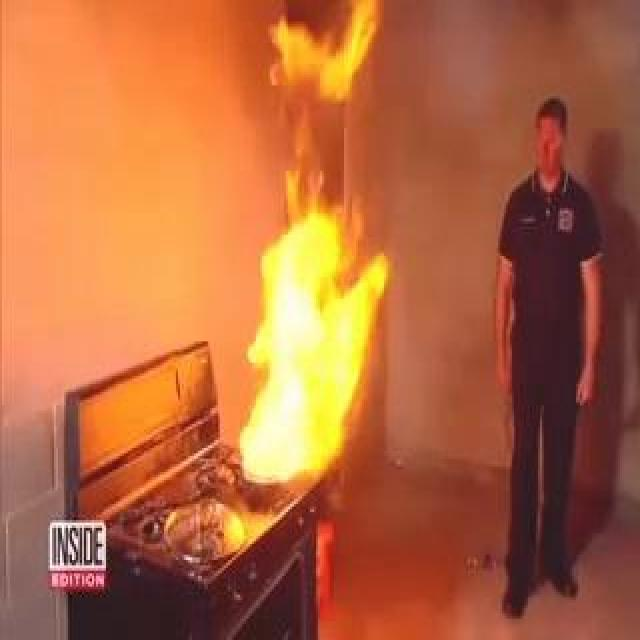Fire: (231, 64, 437, 493)
